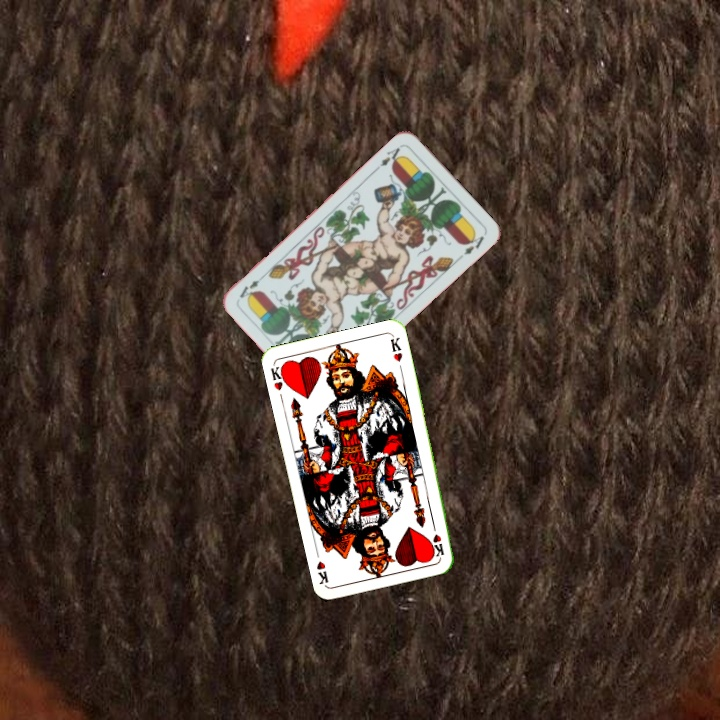EA: (373, 143, 406, 173)
HK: (428, 518, 447, 559), (267, 361, 290, 393)
